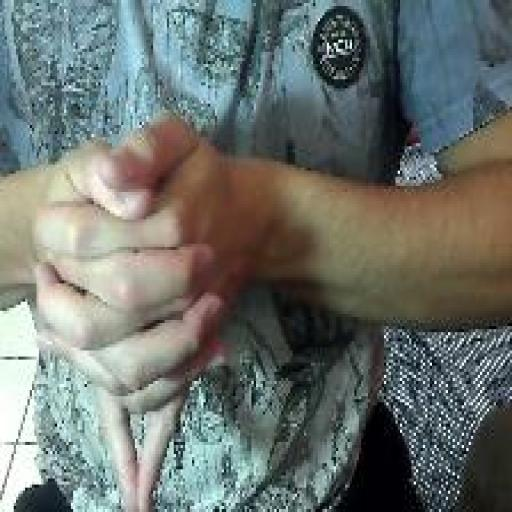Tatsu -dragon-: (28, 106, 232, 512)
